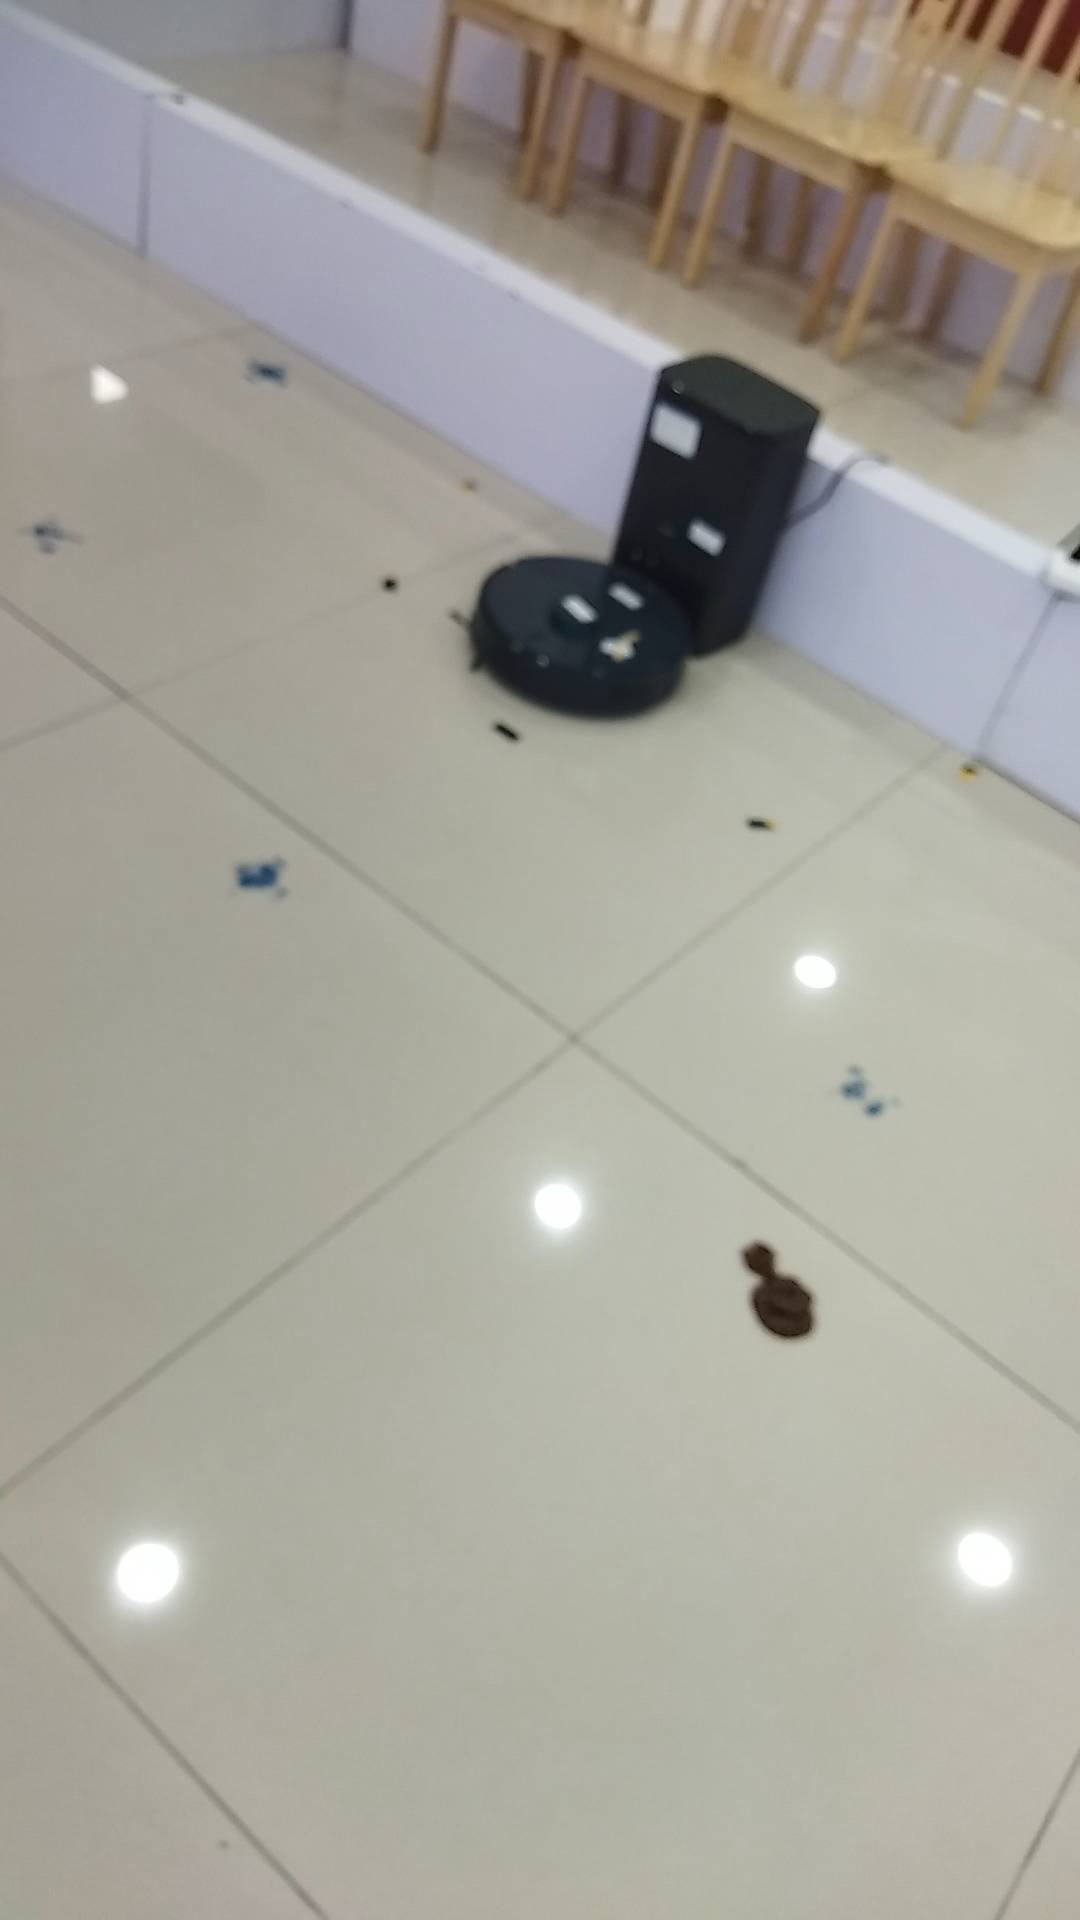dust collecting barrel: (607, 353, 820, 661)
